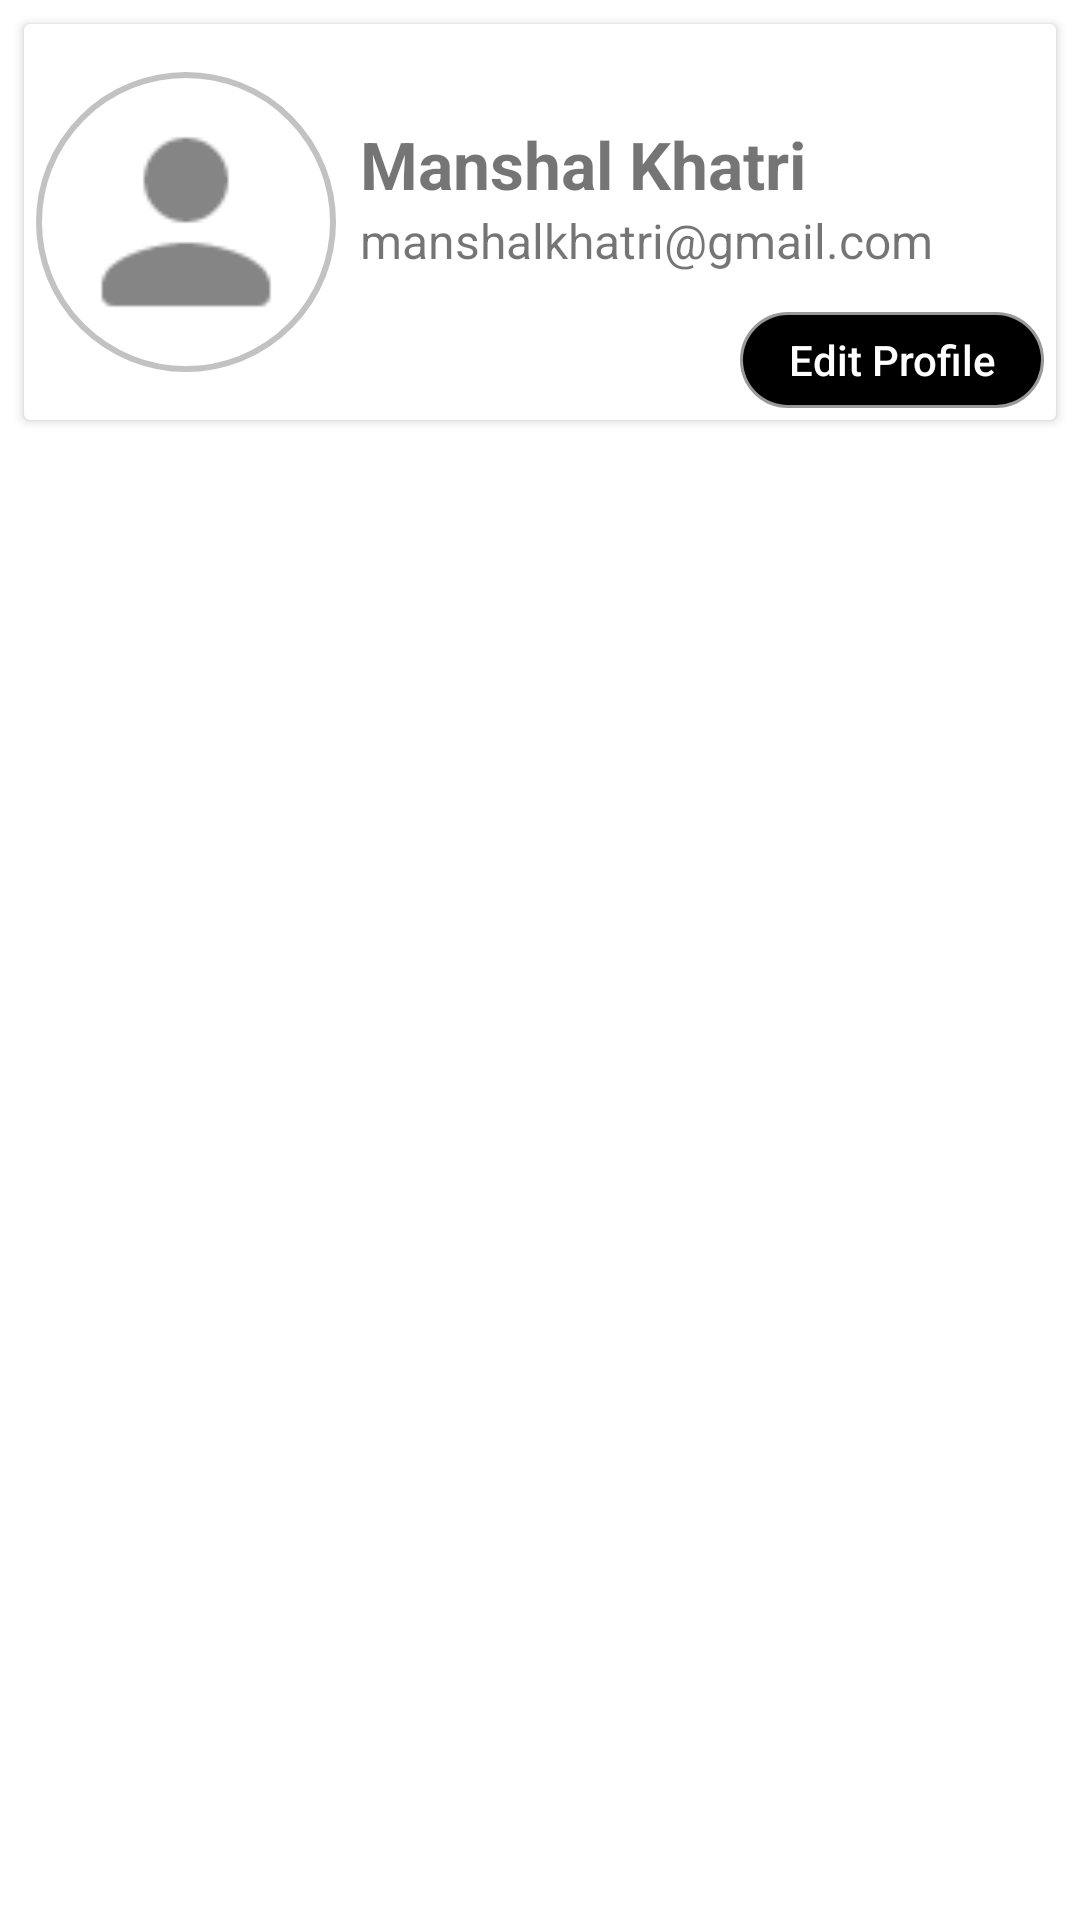

Icons on this 1080w x 1920h Android screen, each with the point to tap as [x,y]:
user: [186,222]
